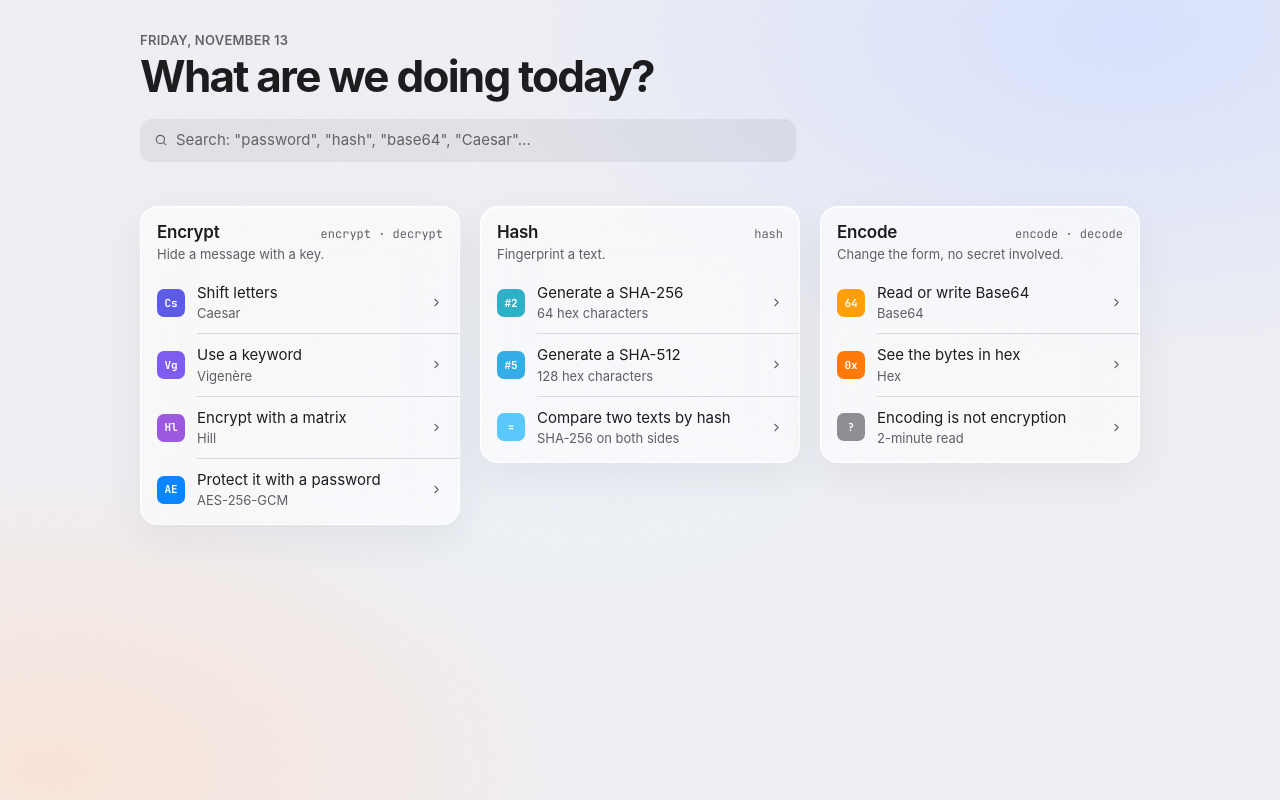
Test case: Home › search filters cards and shows the count
Check: the link "Cs Shift letters Caesar" is shown, box x1=141 y1=272 x2=459 y2=334
Type "sha" into the search field labelled "Search: \"password\", \"hash\", \"base64\", \"Caesar\"…" at (479, 140), box x1=176 y1=129 x2=782 y2=152
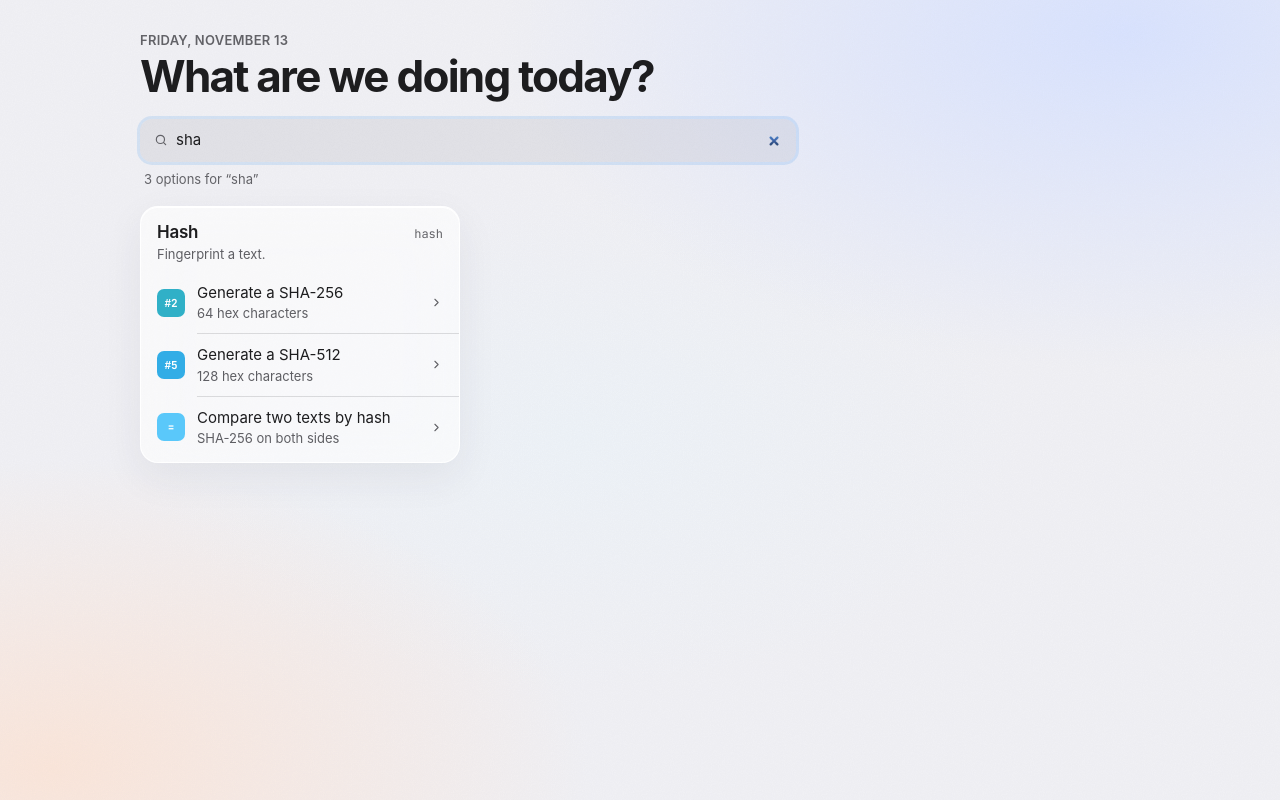
Check: the text "3 options for “sha”" is shown, box x1=144 y1=171 x2=258 y2=187
Check: the heading "Encrypt" is gone
Check: the heading "Encode" is gone
